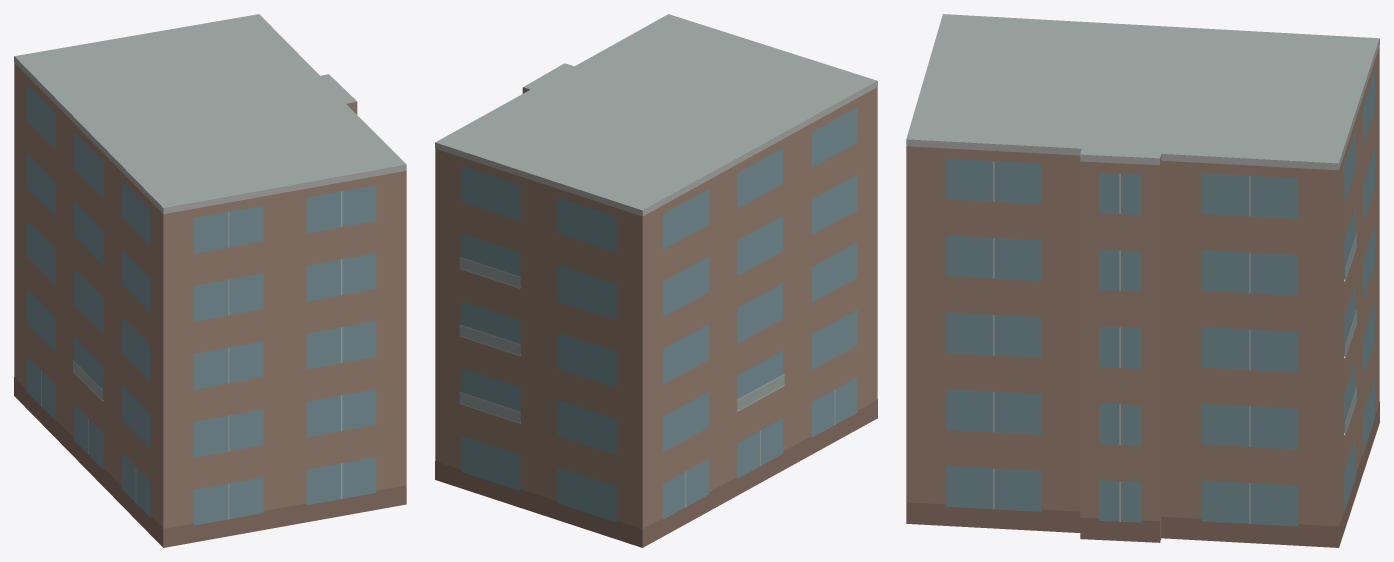
File: survey-upis-32633899.glb
3 views of the same model, side by side, from view 1: azimuth 30°, elevation 25°; view 2: azimuth 150°, elevation 25°; view 3: azimuth 270°, elevation 25° (orthographic). The views are drawn at different scales.
Visible parts, largest first — view 1: survey-upis-32633899.tmp; view 2: survey-upis-32633899.tmp; view 3: survey-upis-32633899.tmp.
Boxes of the visible parts, left/top/right/bottom form: survey-upis-32633899.tmp: left=14, top=14, right=406, bottom=547; survey-upis-32633899.tmp: left=435, top=14, right=877, bottom=547; survey-upis-32633899.tmp: left=906, top=14, right=1379, bottom=547.
Size of the model in its own units: 11.35 by 13.6 by 15.2.
